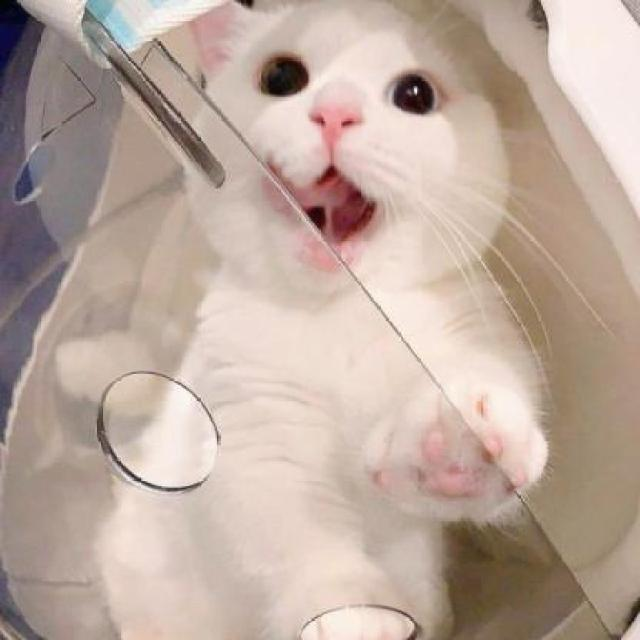cat: (56, 0, 561, 640)
